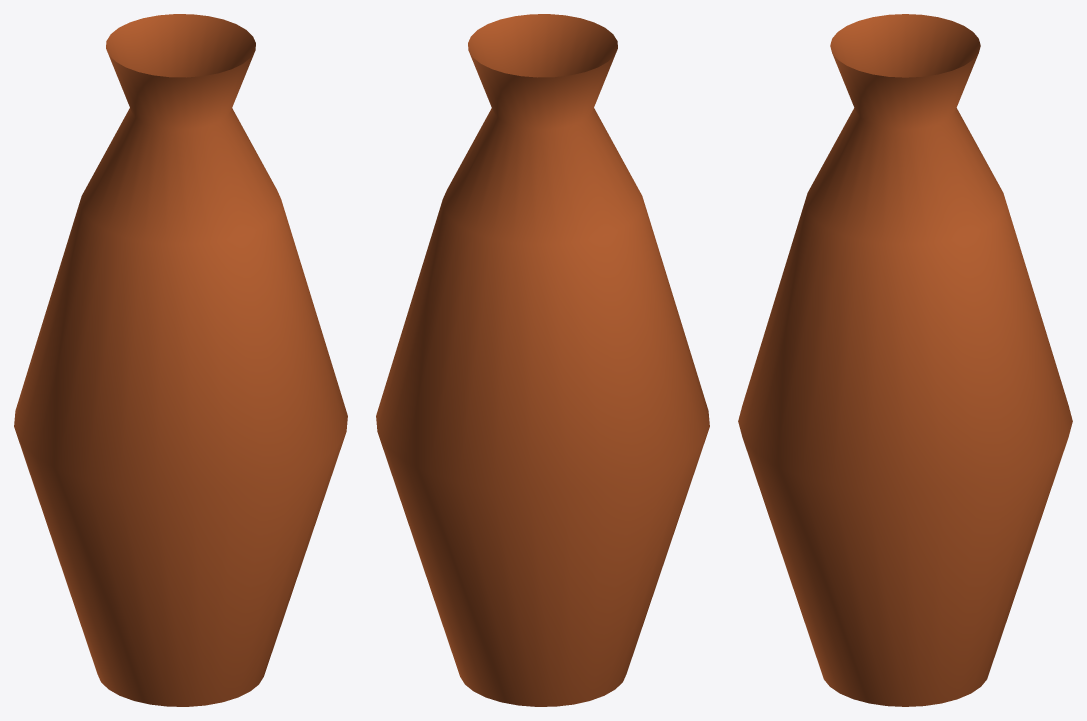
The model's file is ATL-VAS-std.glb.
3 views of the same model, side by side, from view 1: azimuth 30°, elevation 25°; view 2: azimuth 150°, elevation 25°; view 3: azimuth 270°, elevation 25° (orthographic).
Parts seen in each view (by area): view 1: ATL-VAS-std; view 2: ATL-VAS-std; view 3: ATL-VAS-std.
Boxes of the visible parts, x1,y1,x2,y2 form: ATL-VAS-std: [14, 14, 347, 706]; ATL-VAS-std: [376, 14, 709, 706]; ATL-VAS-std: [738, 14, 1072, 706].
Size of the model in its own units: 0.16 by 0.33 by 0.16.
